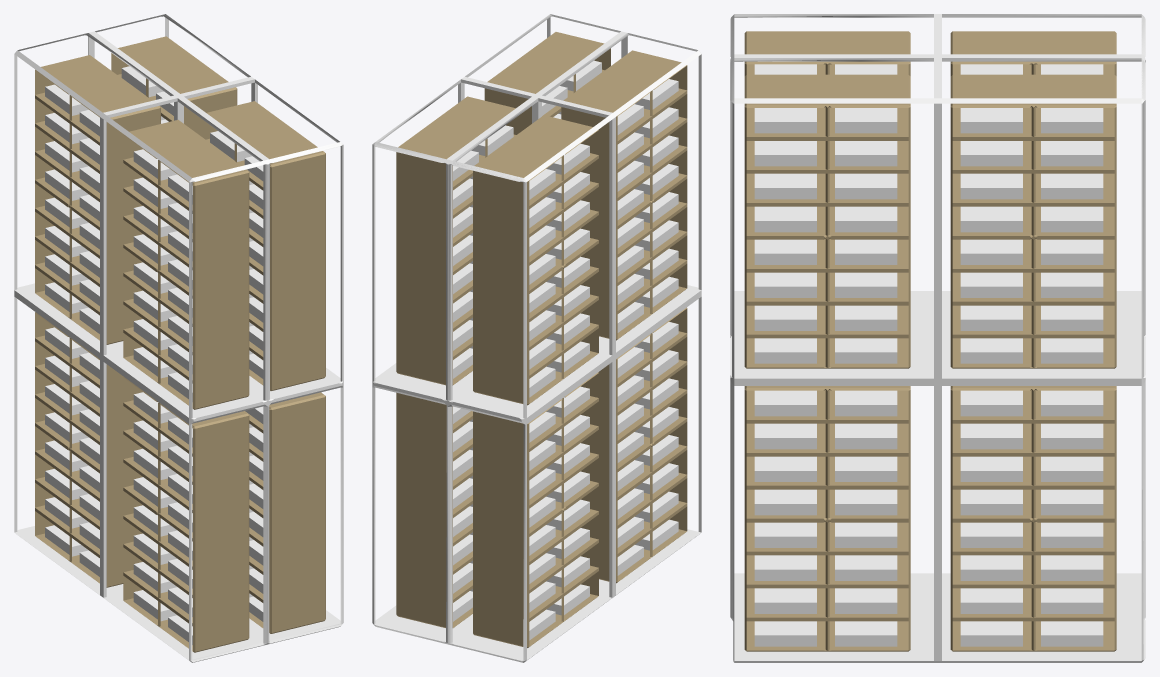
The model's file is Server_Box.FBX.
3 renders of one model, left to right at view 1: azimuth 30°, elevation 25°; view 2: azimuth 150°, elevation 25°; view 3: azimuth 270°, elevation 25°, orthographic. The views are drawn at different scales.
Parts seen in each view (by area): view 1: Servers_Box_1; view 2: Servers_Box_1; view 3: Servers_Box_1.
Boxes of the visible parts, box(x1,y1,x2,y2) form: Servers_Box_1: box(14, 14, 343, 662); Servers_Box_1: box(372, 14, 701, 662); Servers_Box_1: box(730, 14, 1145, 662).
Bounding box in the file's own units: 0.5 × 1.5 × 1.
